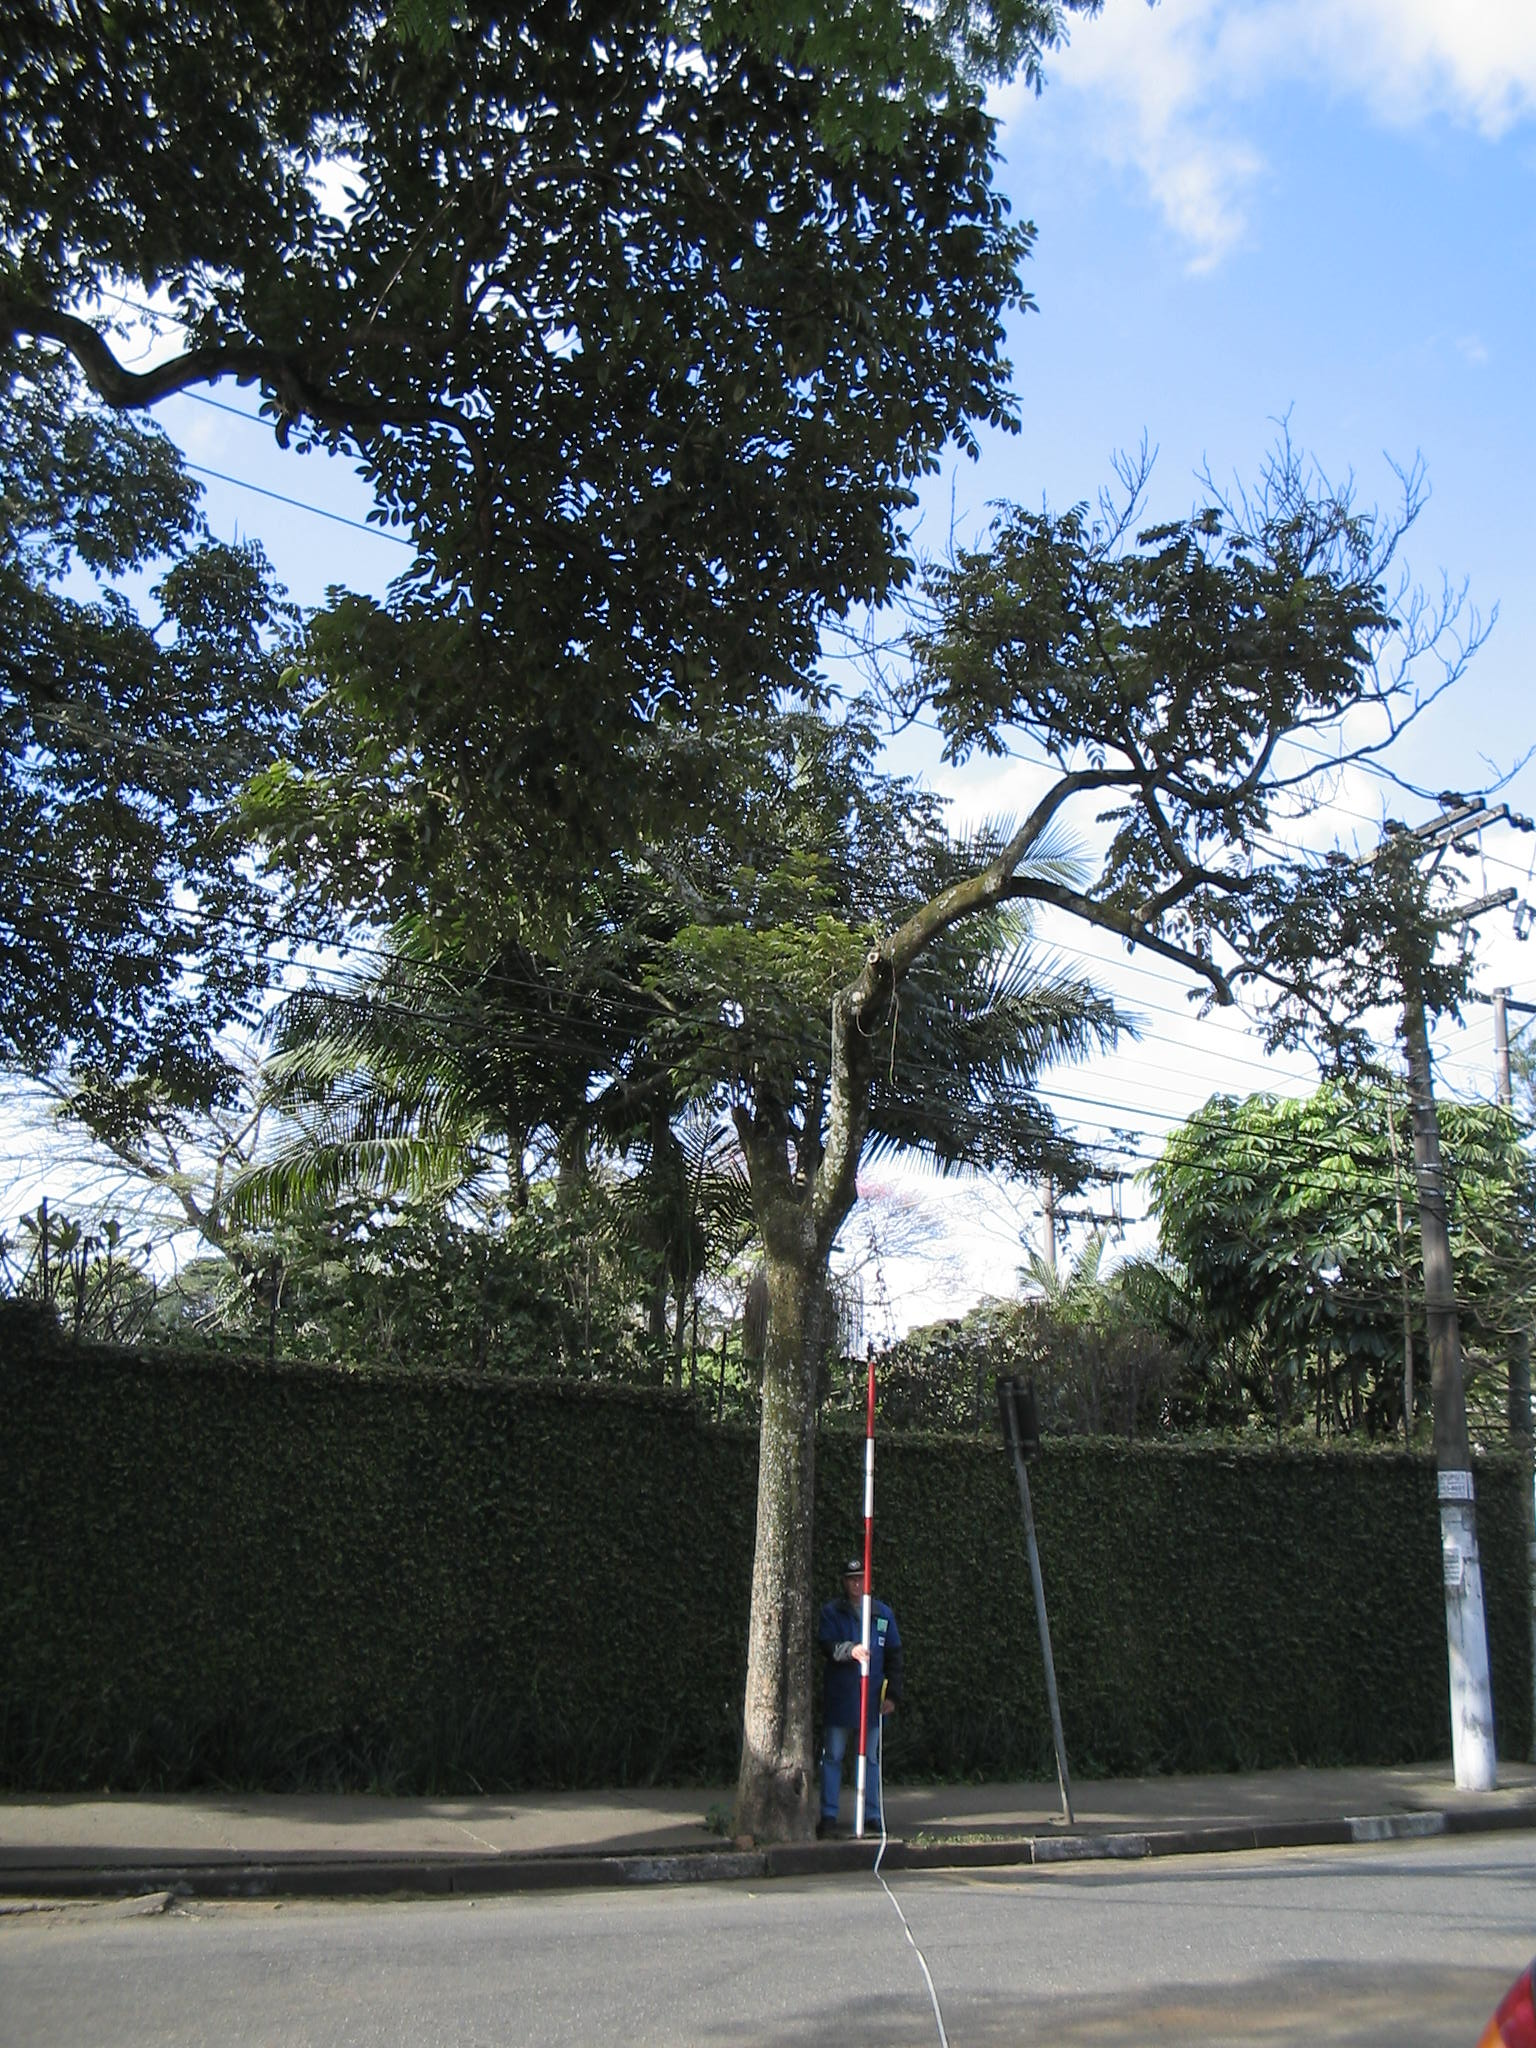crown: (224, 443, 1383, 972)
stem: (703, 1268, 833, 1838)
stick: (850, 1347, 899, 1834)
tree: (219, 443, 1391, 1846)
